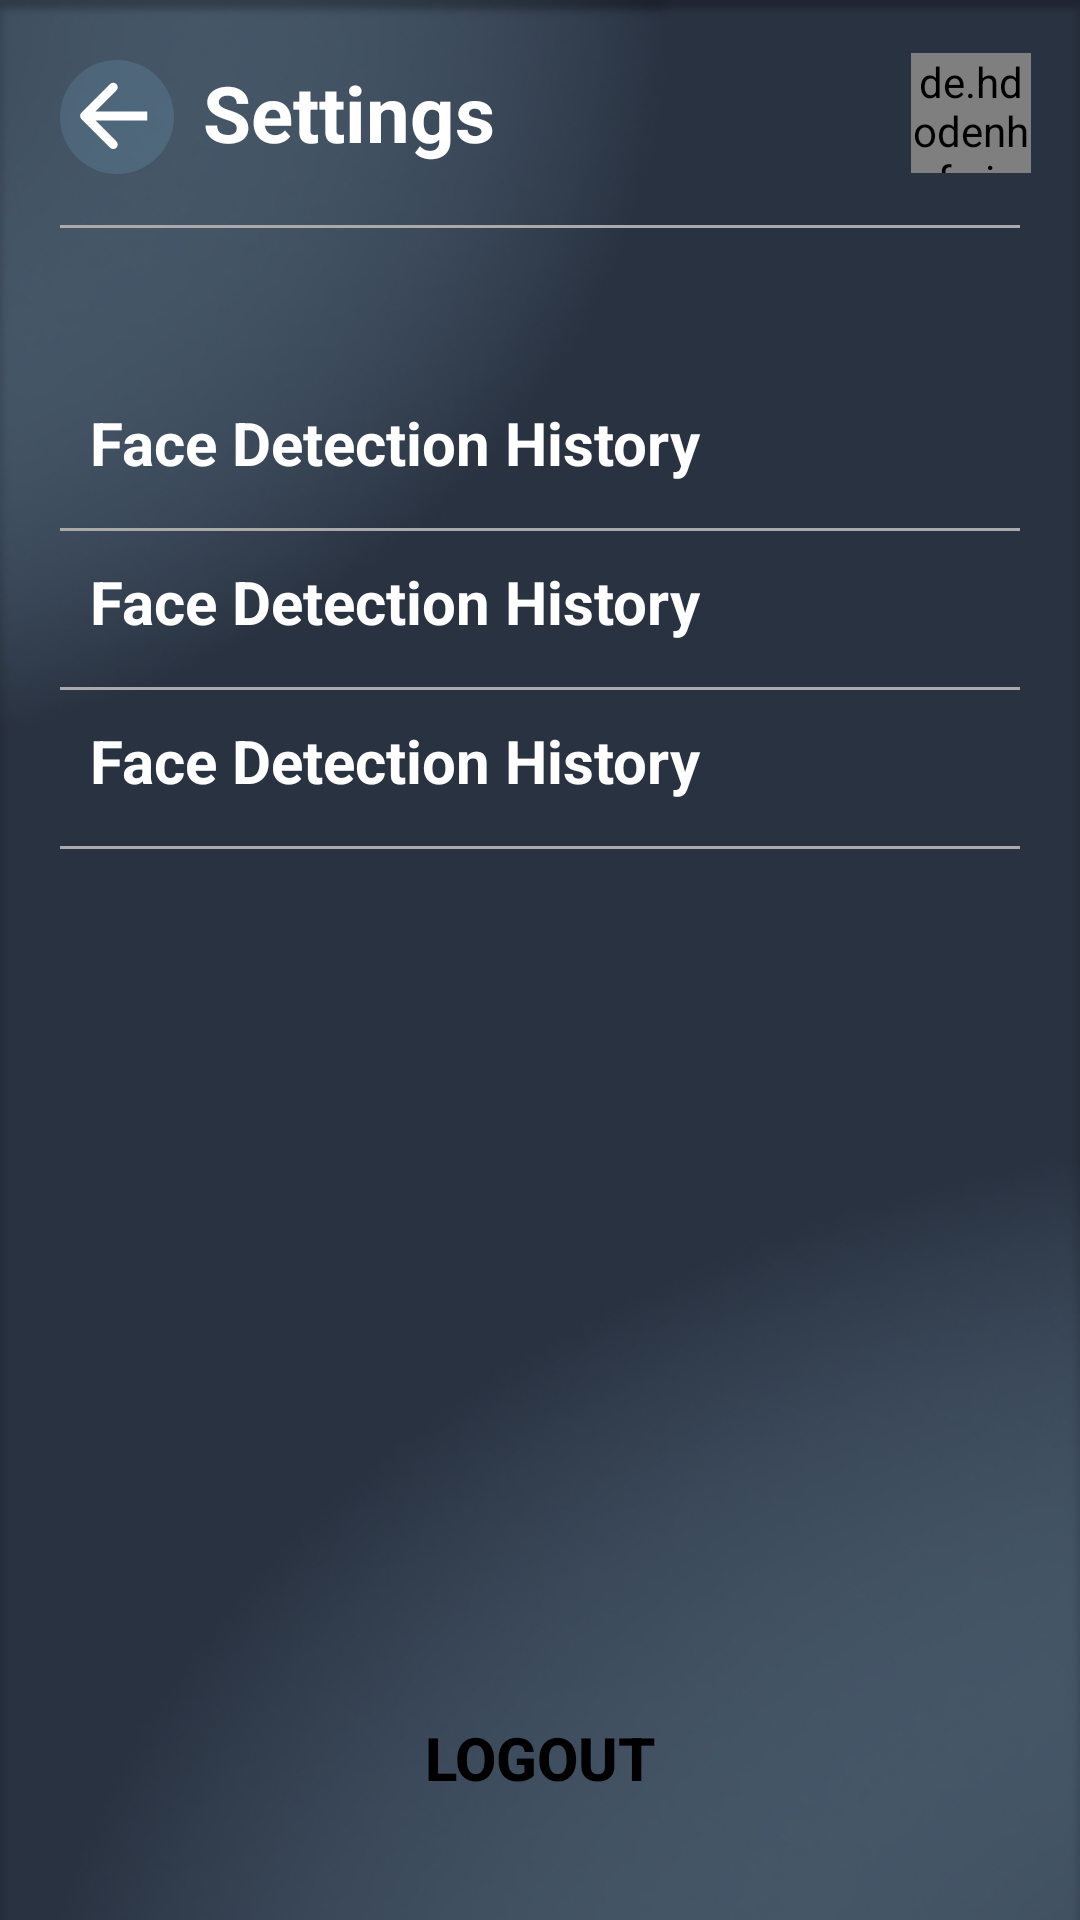

Where to tap for icons on this 1080*1920 app screen, as (x=x, y=y):
back: (x=117, y=117)
